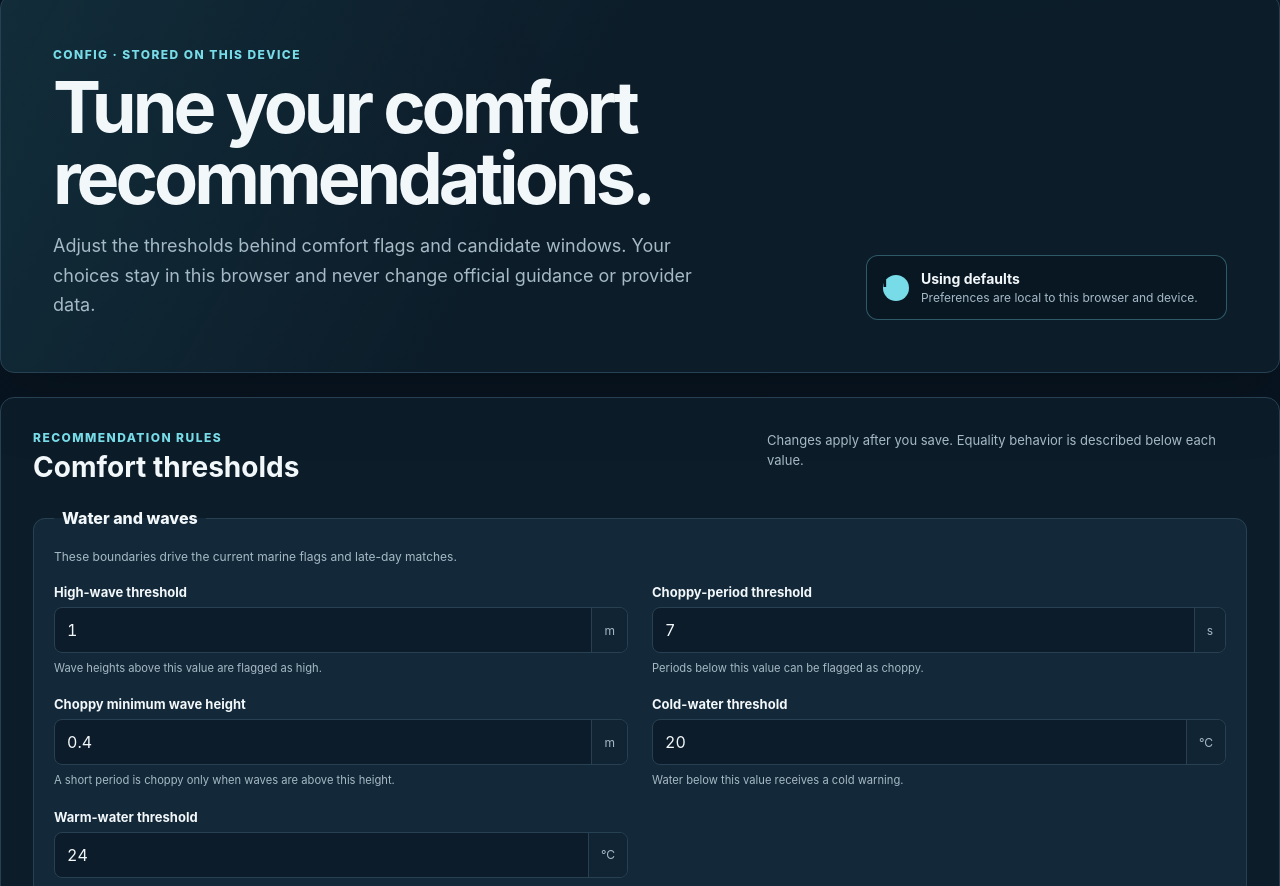
Test: ConfigPage › submits a complete valid rule set
Replace the text in the number field labelled "High-wave threshold" with "0.8". click: (323, 630)
box: [55, 608, 592, 652]
(page scrolled)
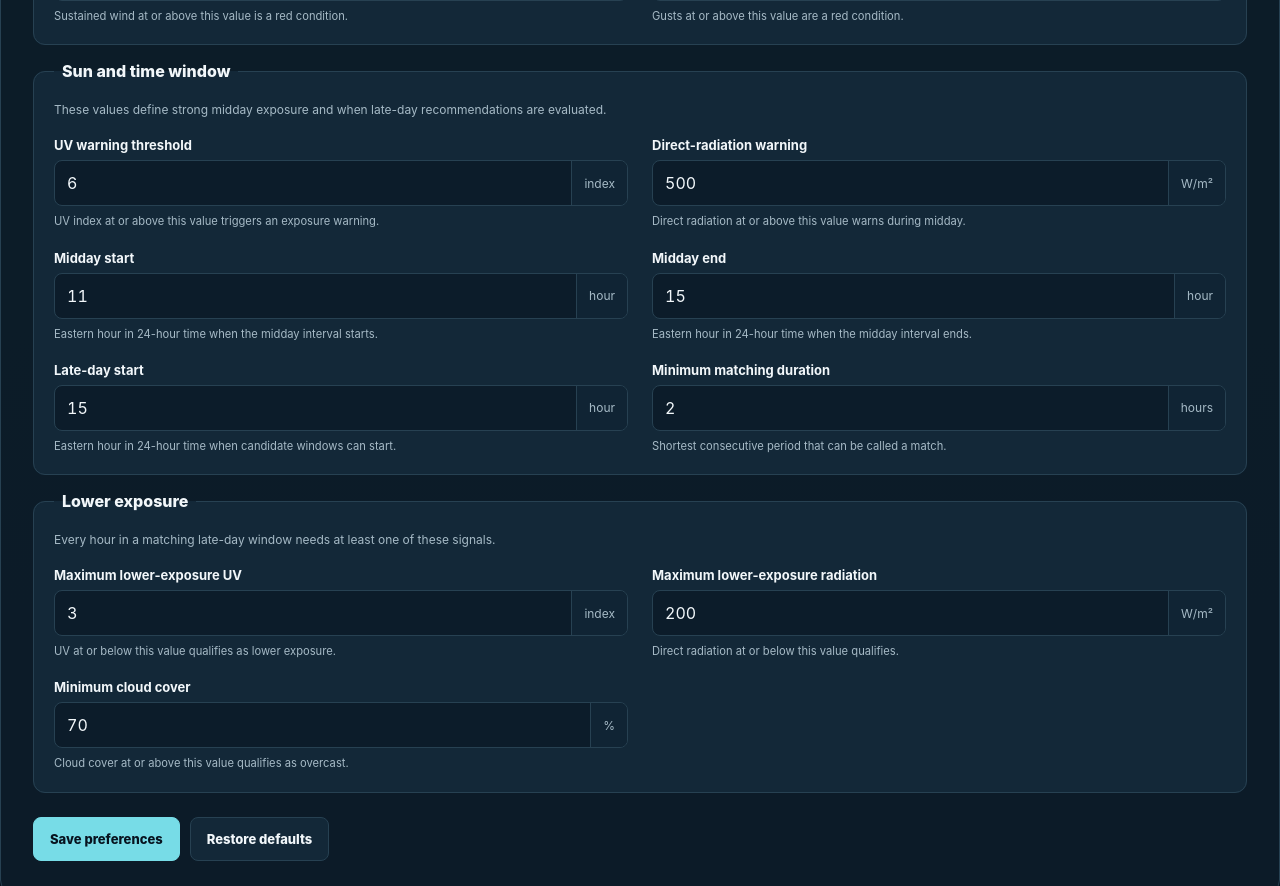
Click the button "Save preferences". click: (106, 838)
box: [33, 816, 180, 860]
(page scrolled)
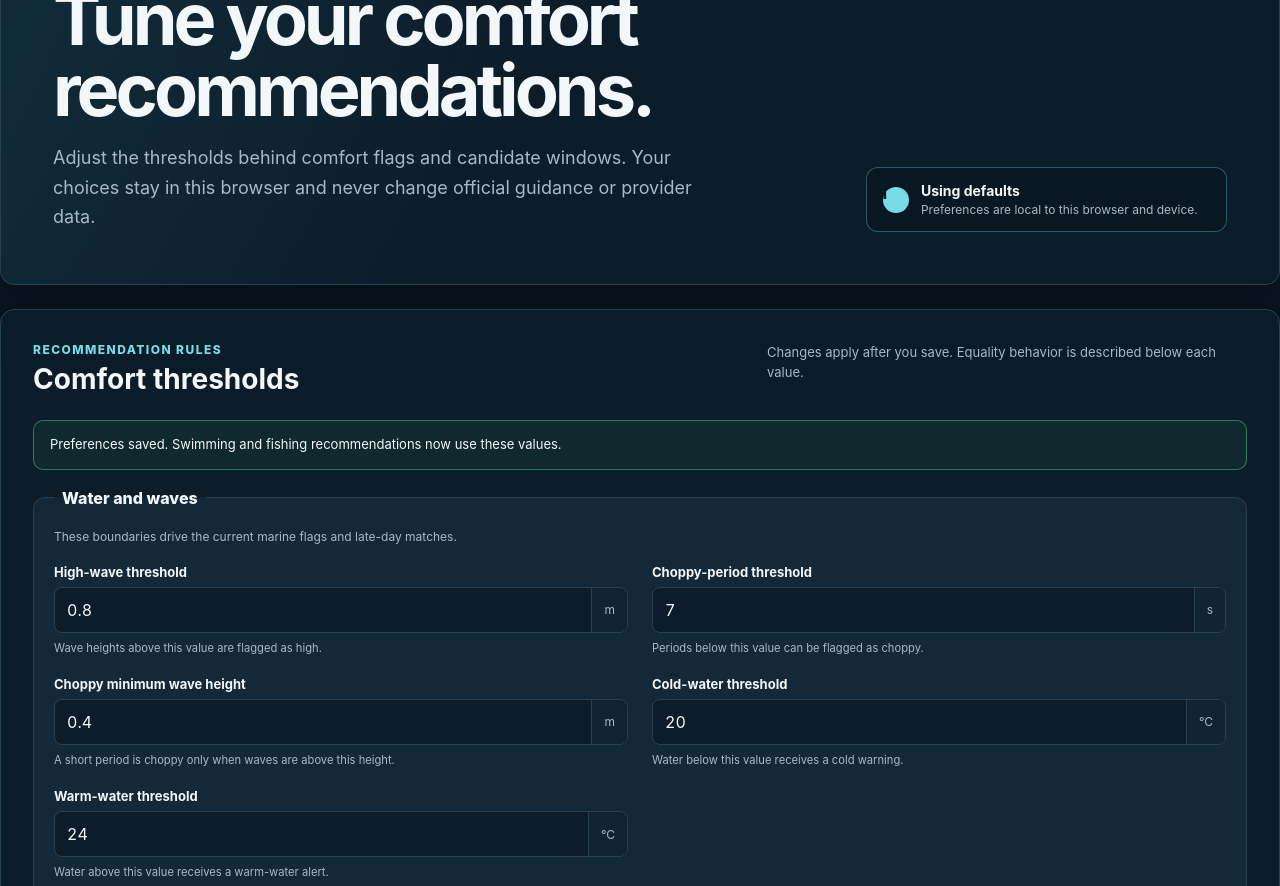
Expected: the message shows "Preferences saved", [50, 436, 562, 452]
